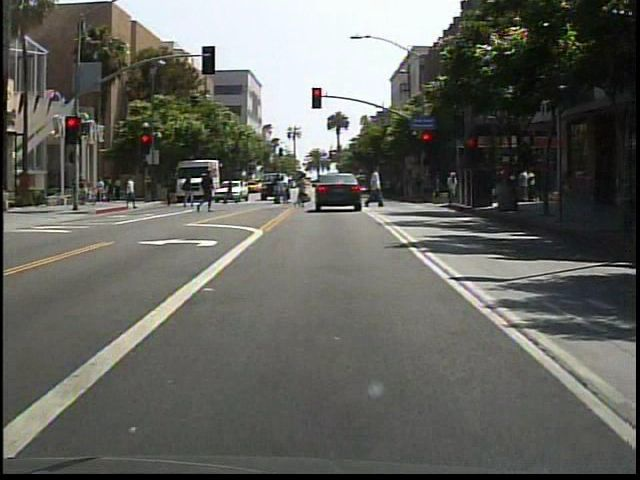person: (363, 162, 390, 214), (200, 168, 221, 217), (296, 172, 315, 210), (124, 174, 141, 213), (183, 174, 199, 211)
